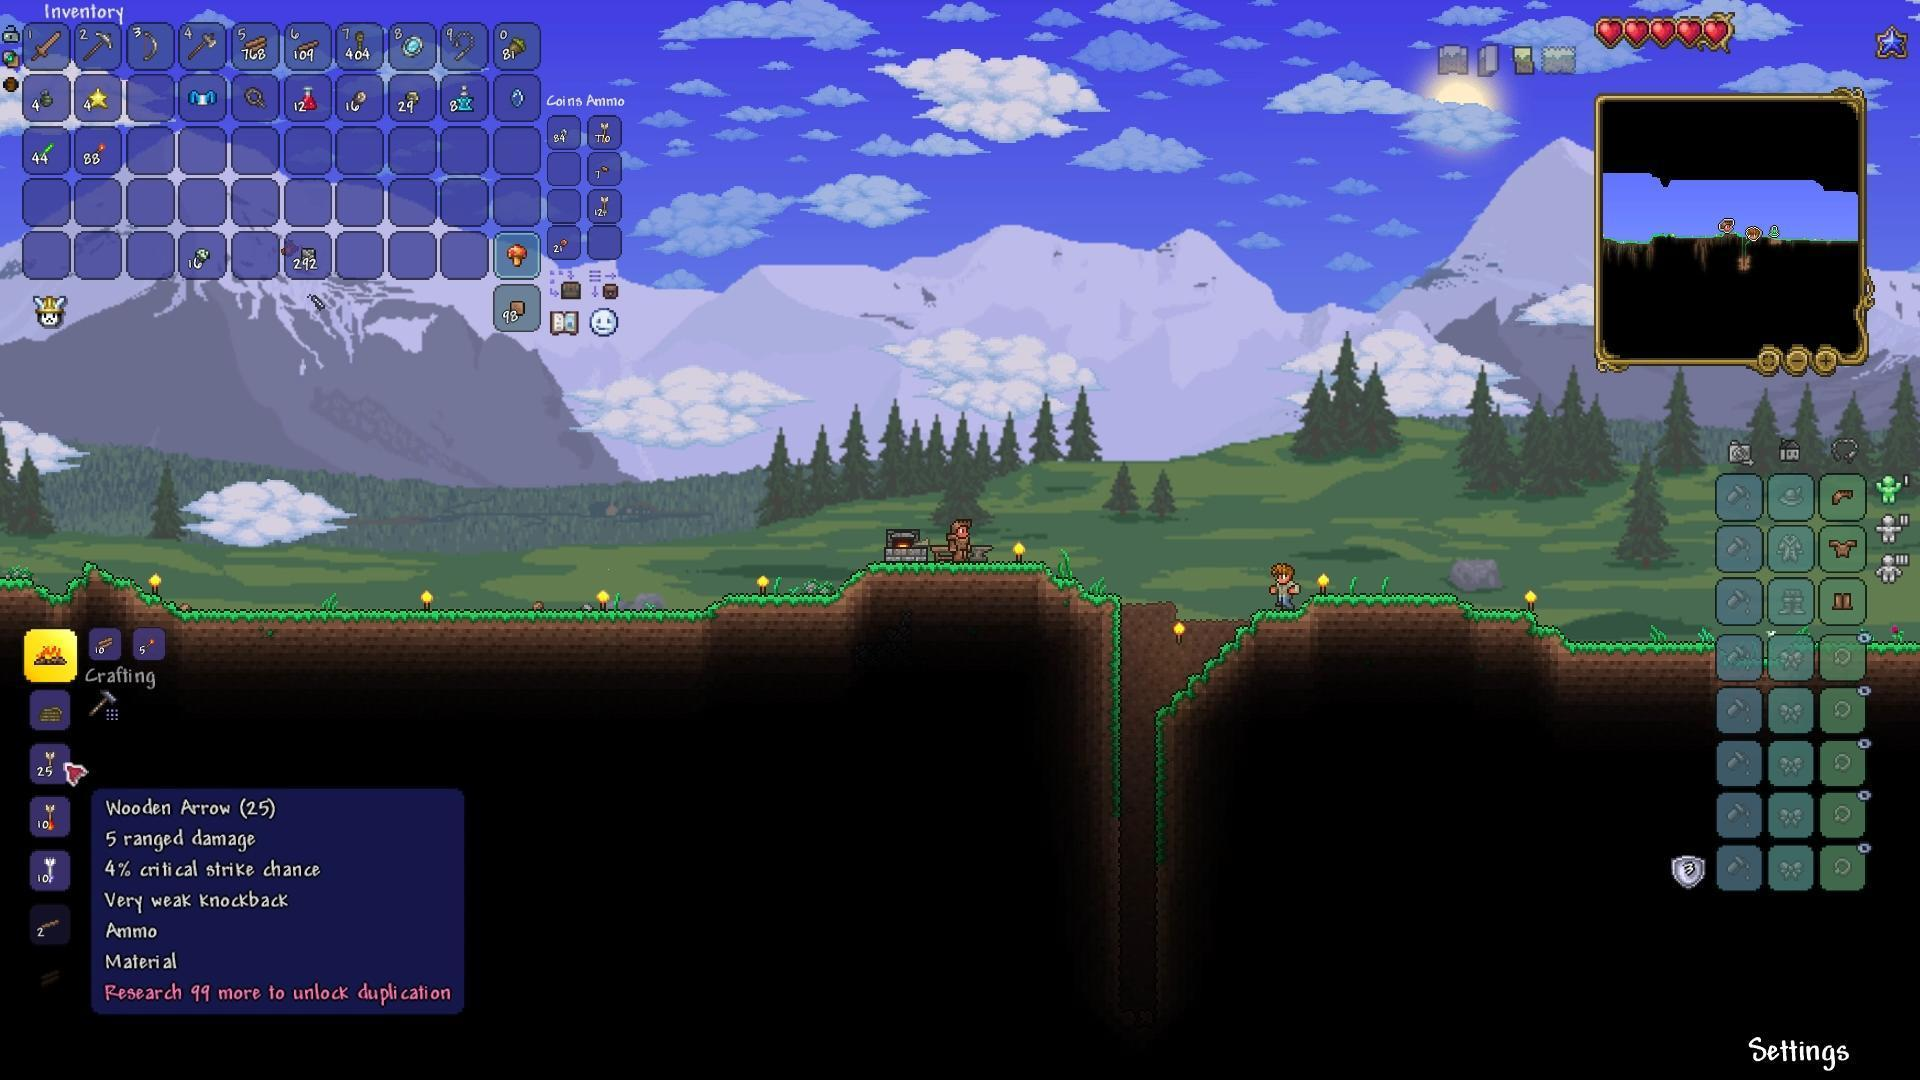anvil: (967, 539, 998, 564)
furnace: (882, 520, 931, 564)
grenade: (88, 84, 112, 111), (36, 84, 59, 109)
potion: (299, 83, 315, 116)
recallP: (456, 80, 475, 113)
